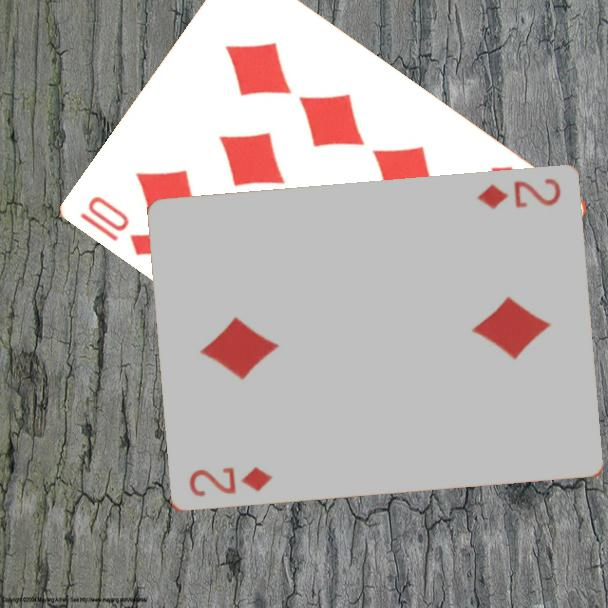d02: (473, 175, 564, 213), (185, 464, 274, 500)
d10: (77, 192, 161, 259)
